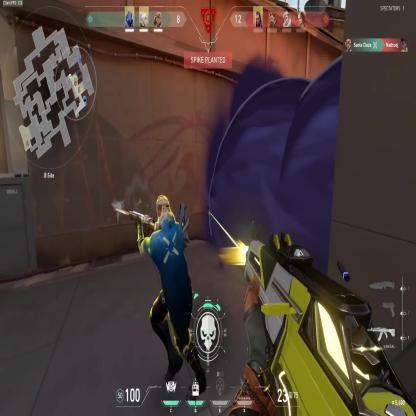enemy: (135, 194, 208, 393)
enemy_head: (156, 194, 172, 226)
